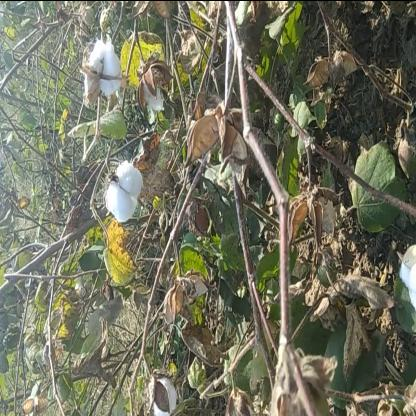cotton_ready: (72, 24, 138, 110), (104, 144, 154, 233)
